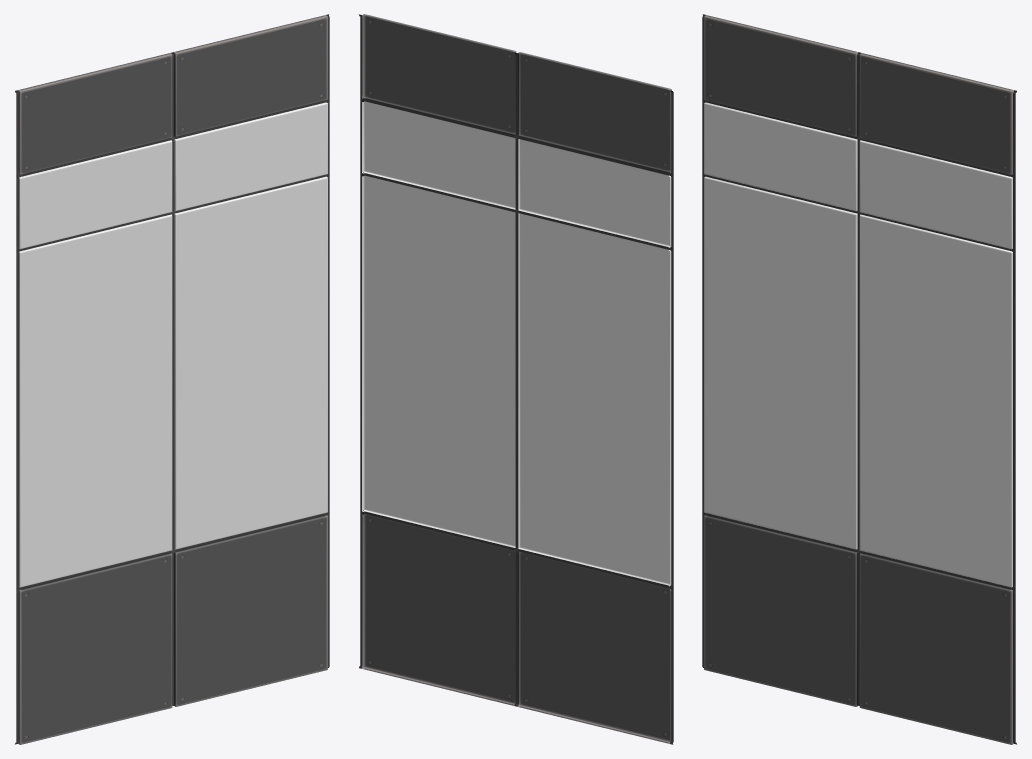
File: MWall12-2-175x350-1.FBX
3 views of the same model, side by side, from view 1: azimuth 30°, elevation 25°; view 2: azimuth 150°, elevation 25°; view 3: azimuth 330°, elevation 25° (orthographic).
Parts seen in each view (by area): view 1: MWall12-2-175x350-1; view 2: MWall12-2-175x350-1; view 3: MWall12-2-175x350-1.
Boxes of the visible parts, x1,y1,x2,y2 form: MWall12-2-175x350-1: (15,14,329,744); MWall12-2-175x350-1: (359,14,673,744); MWall12-2-175x350-1: (702,14,1016,744).
Size of what is drawn, in the model's own units: 1.77 by 3.5 by 0.0203.
